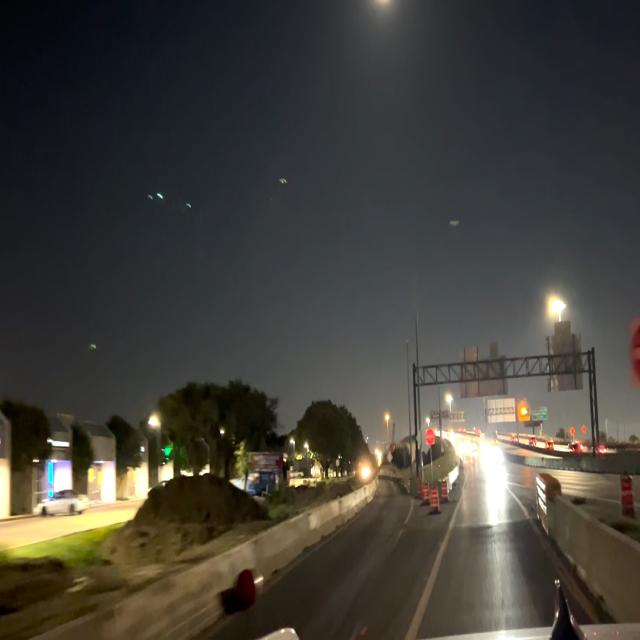back-of-sign: (543, 317, 583, 393), (457, 341, 509, 399), (485, 397, 517, 427), (449, 406, 467, 426)
